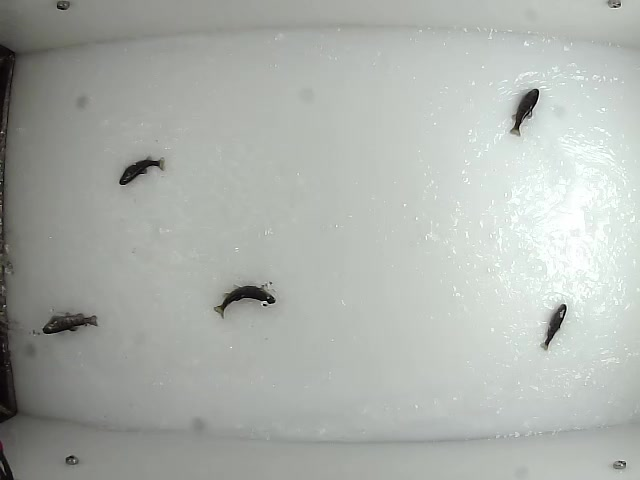fish: (212, 283, 276, 321), (506, 84, 540, 139), (117, 155, 167, 188), (41, 311, 100, 336), (538, 302, 567, 352)
